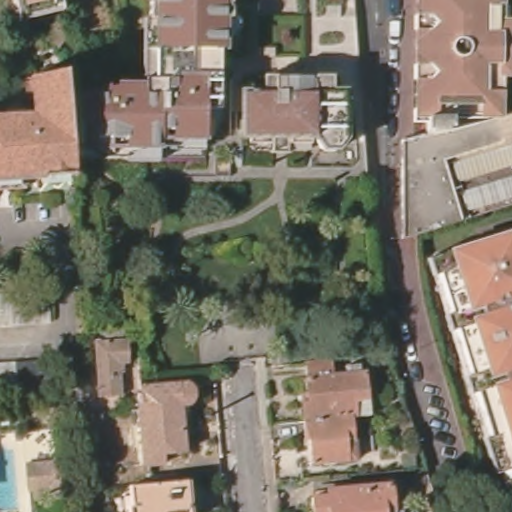pool: (1, 449, 28, 512)
